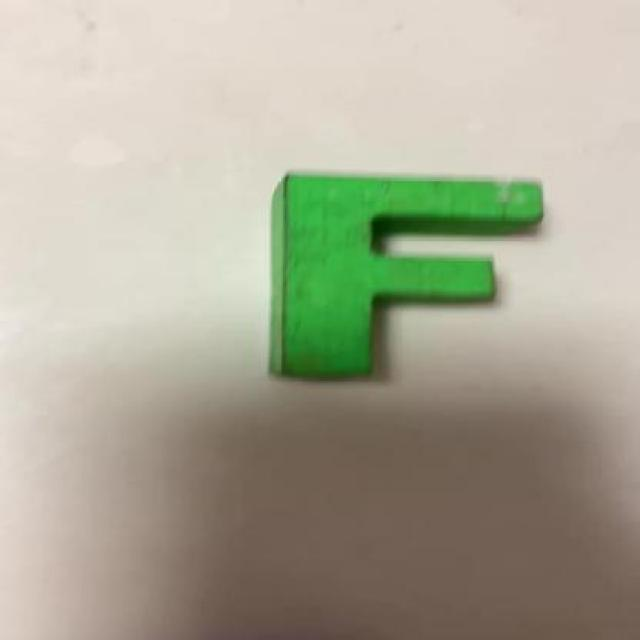F: (269, 167, 543, 385)
